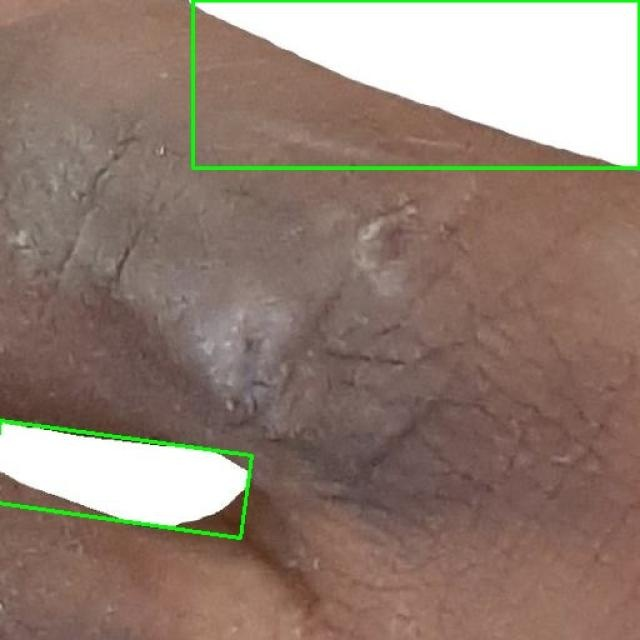Contact Dermatitis: (192, 0, 639, 168), (0, 419, 253, 538)
